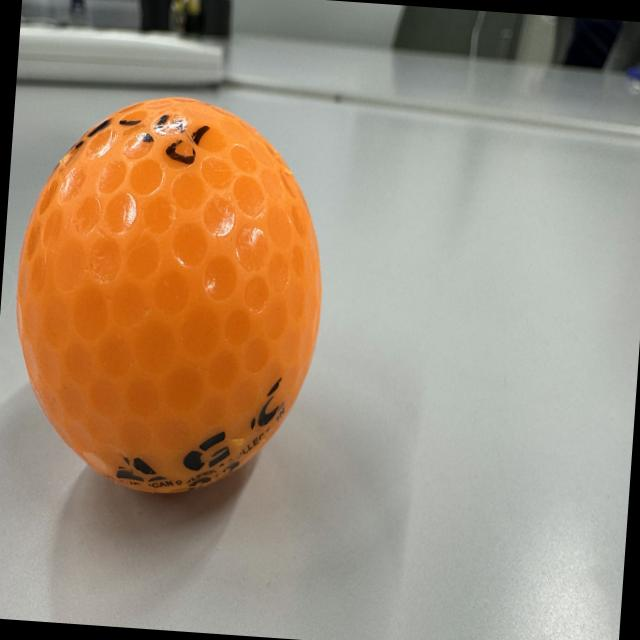ball: (0, 76, 345, 519)
